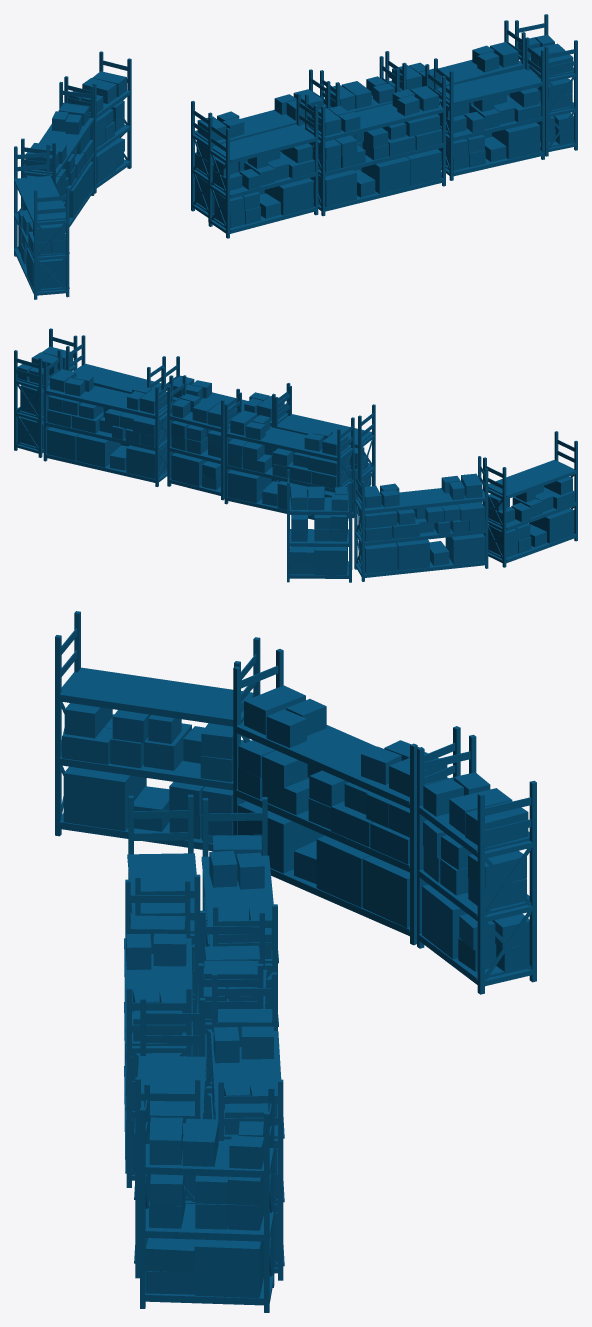
Rendered from Shelves.obj.
The picture shows the model from 3 angles, top to bottom: view 1: azimuth 30°, elevation 25°; view 2: azimuth 150°, elevation 25°; view 3: azimuth 270°, elevation 25°; orthographic projection. The views are drawn at different scales.
Parts seen in each view (by area): view 1: Shelf_(big).007_Large_Shelf.003, Shelf_(medium).003_Medium_Shelf.002, Shelf_(medium).004_Medium_Shelf.003, Shelf_(medium).007_Medium_Shelf.004, Shelf_(big).011_Large_Shelf.006, Shelf_(big).003_Large_Shelf.002, Shelf_(small).007_Small_Shelf.005, Shelf_(small).005_Small_Shelf.003, Shelf_(big).010_Large_Shelf.004, Shelf_(small).003_Small_Shelf.004; view 2: Shelf_(big).011_Large_Shelf.006, Shelf_(big).010_Large_Shelf.004, Shelf_(big).003_Large_Shelf.002, Shelf_(medium).007_Medium_Shelf.004, Shelf_(small).007_Small_Shelf.005, Shelf_(small).003_Small_Shelf.004, Shelf_(small).005_Small_Shelf.003, Shelf_(medium).003_Medium_Shelf.002, Shelf_(big).007_Large_Shelf.003, Shelf_(medium).004_Medium_Shelf.003; view 3: Shelf_(big).011_Large_Shelf.006, Shelf_(medium).007_Medium_Shelf.004, Shelf_(small).005_Small_Shelf.003, Shelf_(small).007_Small_Shelf.005, Shelf_(big).007_Large_Shelf.003, Shelf_(big).010_Large_Shelf.004, Shelf_(big).003_Large_Shelf.002, Shelf_(medium).004_Medium_Shelf.003, Shelf_(medium).003_Medium_Shelf.002, Shelf_(small).003_Small_Shelf.004.
Part boxes in pixels (x1,y1,x2,y2): Shelf_(big).007_Large_Shelf.003: (305,64,445,216); Shelf_(medium).003_Medium_Shelf.002: (208,93,318,238); Shelf_(medium).004_Medium_Shelf.003: (434,37,544,180); Shelf_(medium).007_Medium_Shelf.004: (14,143,69,299); Shelf_(big).011_Large_Shelf.006: (21,81,94,232); Shelf_(big).003_Large_Shelf.002: (191,69,330,221); Shelf_(small).007_Small_Shelf.005: (64,51,131,193); Shelf_(small).005_Small_Shelf.003: (515,14,577,156); Shelf_(big).010_Large_Shelf.004: (385,20,525,149); Shelf_(small).003_Small_Shelf.004: (320,56,399,171); Shelf_(big).011_Large_Shelf.006: (354,456,488,581); Shelf_(big).010_Large_Shelf.004: (43,349,173,486); Shelf_(big).003_Large_Shelf.002: (224,392,354,519); Shelf_(medium).007_Medium_Shelf.004: (483,431,577,567); Shelf_(small).007_Small_Shelf.005: (287,469,352,582); Shelf_(small).003_Small_Shelf.004: (167,375,239,500); Shelf_(small).005_Small_Shelf.003: (14,328,77,457); Shelf_(medium).003_Medium_Shelf.002: (274,385,375,515); Shelf_(big).007_Large_Shelf.003: (161,356,290,482); Shelf_(medium).004_Medium_Shelf.003: (66,335,165,446); Shelf_(big).011_Large_Shelf.006: (233,649,460,945); Shelf_(medium).007_Medium_Shelf.004: (55,611,260,851); Shelf_(small).005_Small_Shelf.003: (140,1082,274,1312); Shelf_(small).007_Small_Shelf.005: (417,734,536,994); Shelf_(big).007_Large_Shelf.003: (124,879,192,1187); Shelf_(big).010_Large_Shelf.004: (210,972,284,1280); Shelf_(big).003_Large_Shelf.002: (201,797,278,1030); Shelf_(medium).004_Medium_Shelf.003: (134,997,206,1278); Shelf_(medium).003_Medium_Shelf.002: (127,794,200,1056); Shelf_(small).003_Small_Shelf.004: (197,910,266,1119).
Bounding box in the file's own units: 11.18 × 2.06 × 4.53.
